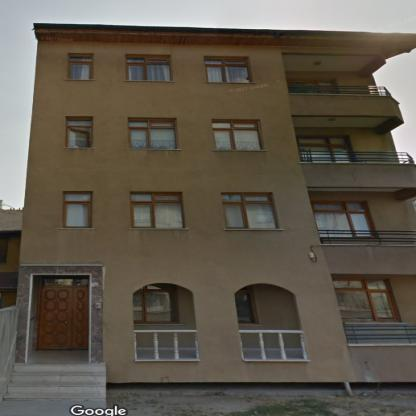door: (37, 279, 86, 348)
window: (332, 281, 397, 320), (312, 203, 372, 237), (221, 194, 277, 229), (132, 193, 184, 228), (135, 285, 177, 323), (296, 137, 352, 162), (212, 122, 261, 150), (130, 120, 177, 149), (205, 59, 249, 82), (128, 57, 170, 81), (64, 192, 91, 228), (235, 284, 255, 324), (67, 120, 92, 148), (67, 56, 92, 79), (288, 82, 336, 92)
